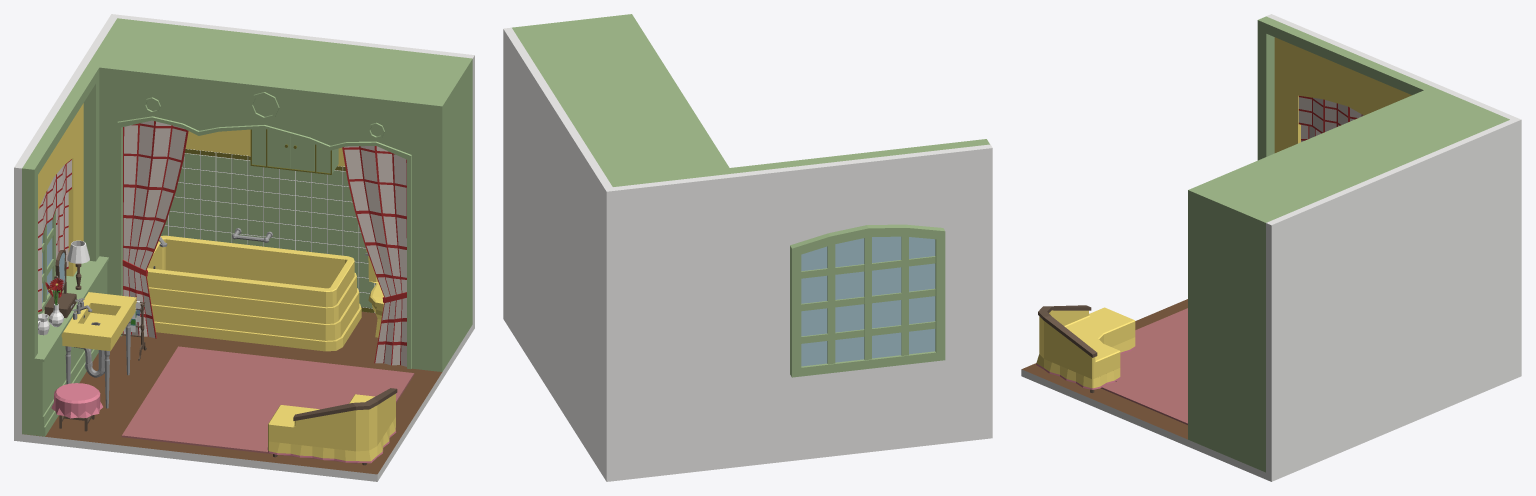
Rendered from Room_11_Bathroom.fbx.
3 renders of one model, left to right at view 1: azimuth 30°, elevation 25°; view 2: azimuth 150°, elevation 25°; view 3: azimuth 270°, elevation 25°, orthographic. The views are drawn at different scales.
Visible parts, largest first — view 1: Room_11_Base, Room_11_Bath, Room_11_Carpet, Room_11_Tile_2, Room_11_Curtains_1, Room_11_Curtains_2, Room_11_Couch, Room_11_Washstand, Room_11_Shelf, Room_11_Curtains_3, Room_11_Chair, Room_11_Window (+4 smaller); view 2: Room_11_Base, Room_11_Window; view 3: Room_11_Base, Room_11_Couch, Room_11_Carpet, Room_11_Curtains_3.
Boxes of the visible parts, bbox=[...] form: Room_11_Base: bbox=[14, 14, 474, 481]; Room_11_Bath: bbox=[147, 235, 361, 351]; Room_11_Carpet: bbox=[121, 346, 414, 463]; Room_11_Tile_2: bbox=[160, 149, 375, 312]; Room_11_Curtains_1: bbox=[342, 146, 406, 366]; Room_11_Curtains_2: bbox=[122, 120, 188, 338]; Room_11_Couch: bbox=[267, 388, 397, 465]; Room_11_Washstand: bbox=[61, 292, 136, 408]; Room_11_Shelf: bbox=[250, 128, 338, 174]; Room_11_Curtains_3: bbox=[38, 159, 71, 312]; Room_11_Chair: bbox=[51, 383, 102, 431]; Room_11_Window: bbox=[38, 210, 55, 314]; Room_11_Base: bbox=[503, 14, 992, 481]; Room_11_Window: bbox=[790, 224, 945, 377]; Room_11_Base: bbox=[1021, 14, 1521, 481]; Room_11_Couch: bbox=[1036, 305, 1135, 392]; Room_11_Carpet: bbox=[1101, 308, 1187, 424]; Room_11_Curtains_3: bbox=[1298, 96, 1363, 141].
Size of the model in its own units: 707 by 707 by 401.
